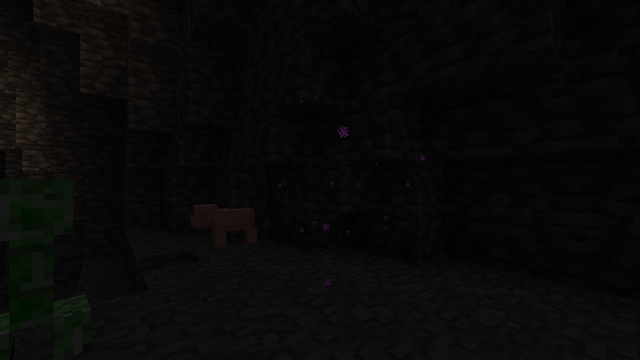cochons: (207, 205, 255, 249)
creepers: (2, 170, 79, 358)
